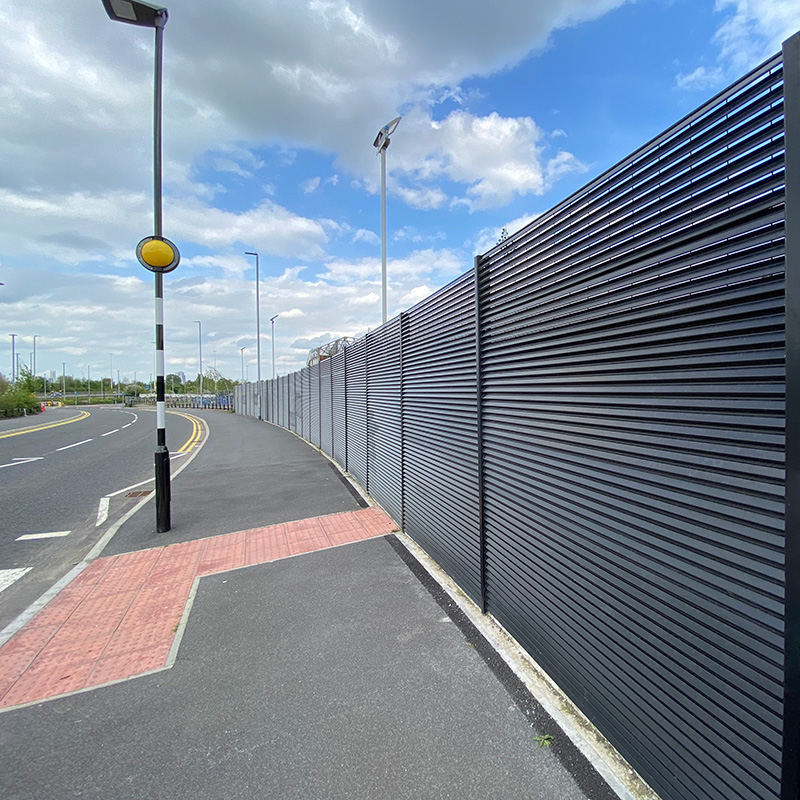Fence: (234, 248, 798, 800)
